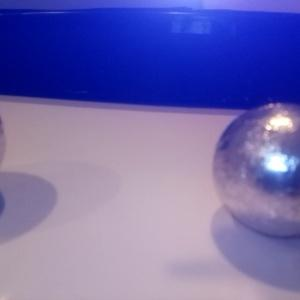alive_ball: (212, 102, 300, 238)
